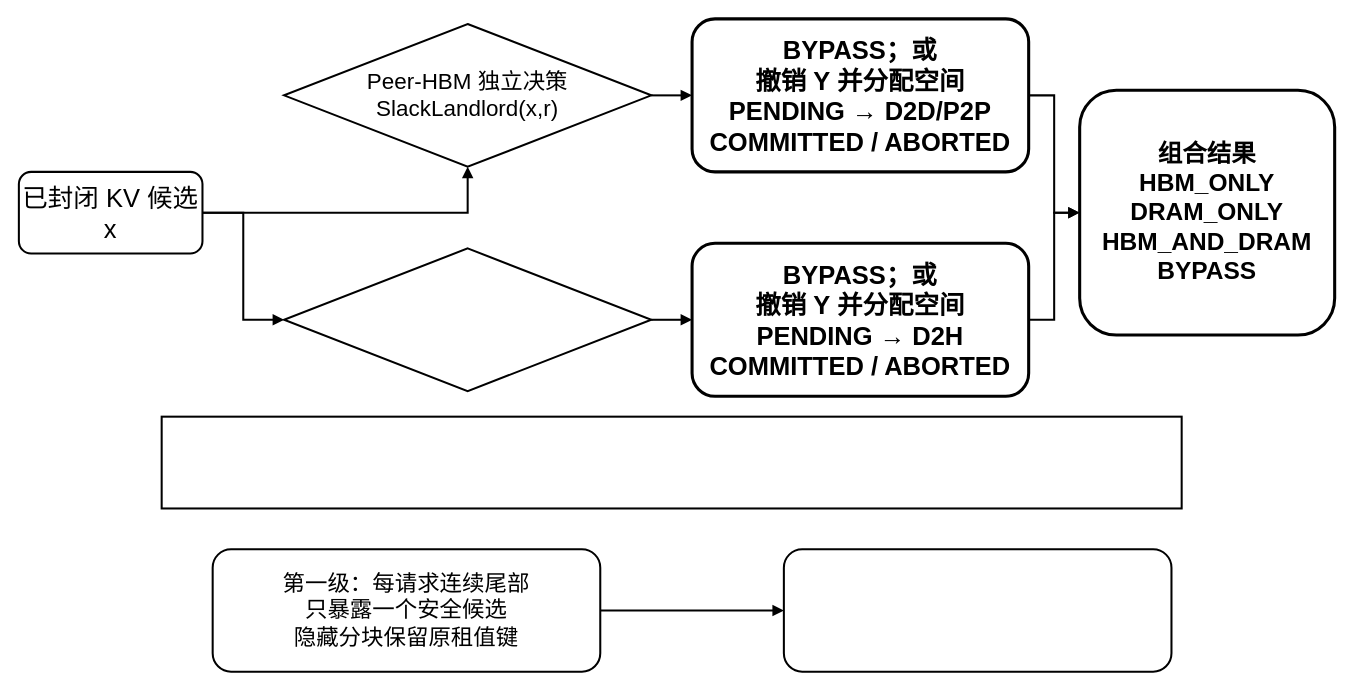
Image size: 1354x691. Some labels were removed from this diagram. The box of each missing label's shape, as (x1, y1, x2, y2) in pixels:
DRAM 独立决策 SlackLandlord(x,r): (283, 247, 652, 392)
Slack、命中率或访问时序变化只使索引键失效；仅在检查堆顶或暴露新尾部时 Lazy Refresh，不扫描或搬运全部 KV: (160, 415, 1182, 509)
第二级：本池最小堆 比较各请求暴露的尾部 按版本惰性刷新陈旧键: (782, 548, 1172, 672)
